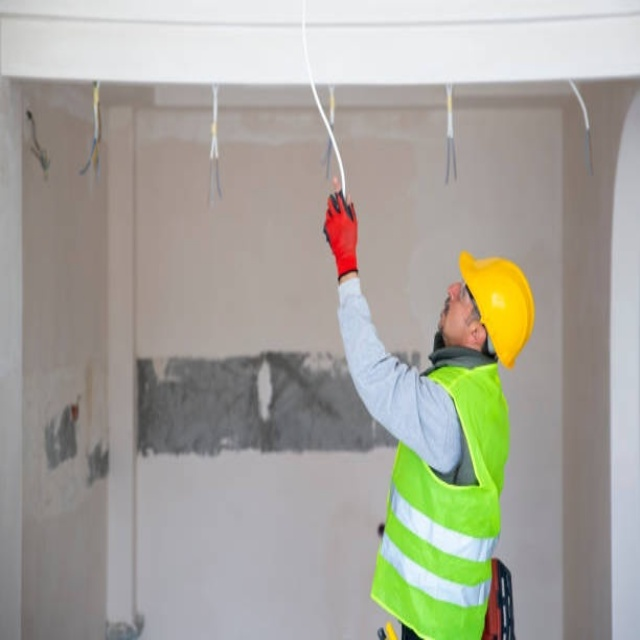Gafas: (462, 282, 482, 325)
Guantes: (323, 189, 359, 279)
Sin_mascara: (436, 295, 455, 331)
